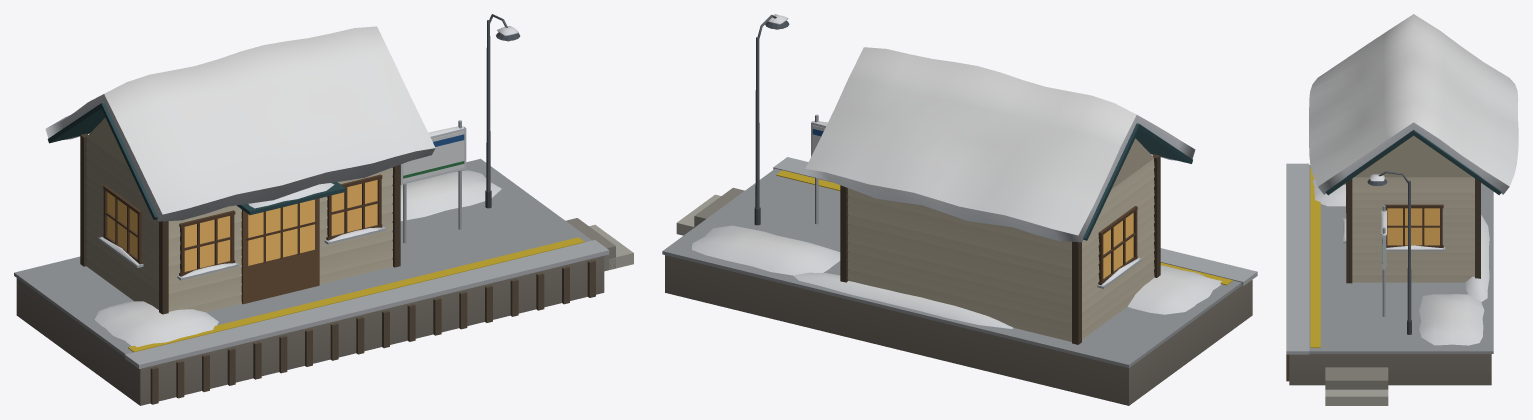
Rendered from station.glb.
3 renders of one model, left to right at view 1: azimuth 30°, elevation 25°; view 2: azimuth 150°, elevation 25°; view 3: azimuth 270°, elevation 25°, orthographic. The views are drawn at different scales.
Visible parts, largest first — view 1: station; view 2: station; view 3: station.
Boxes of the visible parts, bbox=[...] form: station: bbox=[14, 14, 633, 405]; station: bbox=[662, 14, 1257, 405]; station: bbox=[1286, 14, 1518, 405].
Size of the model in its own units: 11.62 by 5.5 by 5.52.
